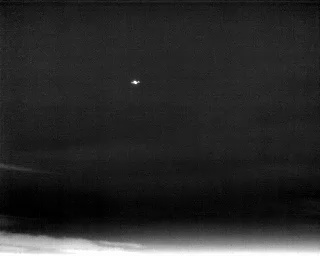AIRPLANE: (130, 77, 141, 87)
